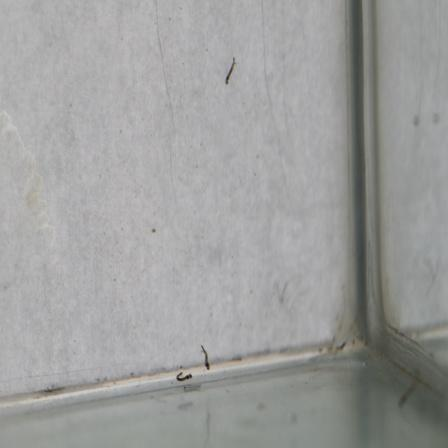Jentik-Nyamuk: (220, 54, 241, 87), (196, 342, 215, 371), (173, 369, 199, 387)
